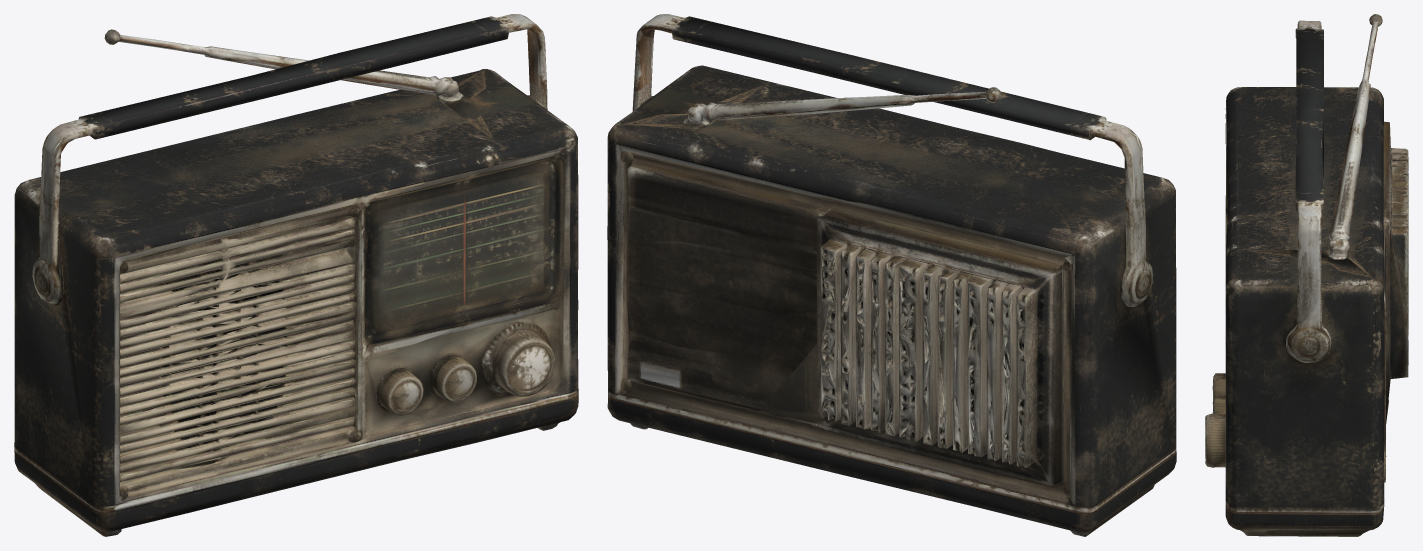
The model's file is Meshy_AI_Rusty_Vintage_Radio_0703184526_texture.fbx.
3 renders of one model, left to right at view 1: azimuth 30°, elevation 25°; view 2: azimuth 150°, elevation 25°; view 3: azimuth 270°, elevation 25°, orthographic. The views are drawn at different scales.
Parts seen in each view (by area): view 1: Mesh_0; view 2: Mesh_0; view 3: Mesh_0.
Part boxes in pixels (x1=…): Mesh_0: x1=14, y1=14, x2=578, y2=536; Mesh_0: x1=607, y1=14, x2=1176, y2=536; Mesh_0: x1=1205, y1=14, x2=1408, y2=536.
Size of the model in its own units: 191 by 156 by 78.02.
1 material, 1 textured.
